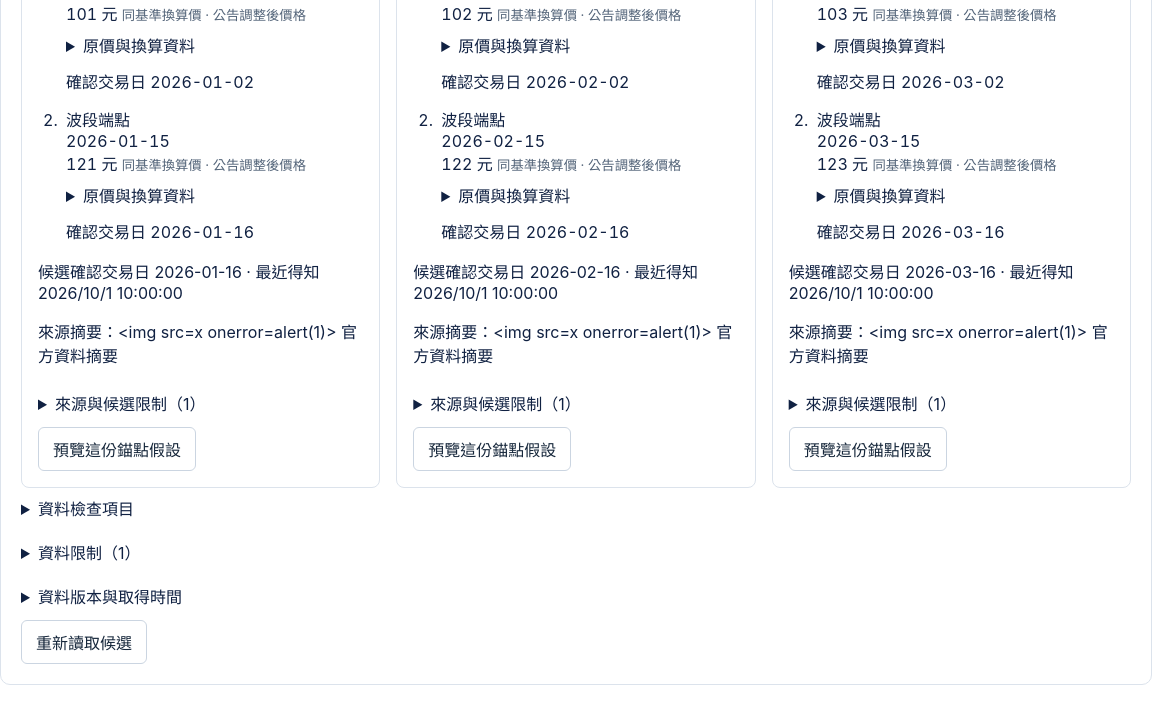
Test: AutomaticWaveCandidates › does not retain a prior successful response after a manual read fails
(page scrolled)
What coordinates should you click on to do the following:
click the button "重新讀取候選"
I would click on:
 (84, 642)
Its box is 21,620 -> 147,664.
(page scrolled)
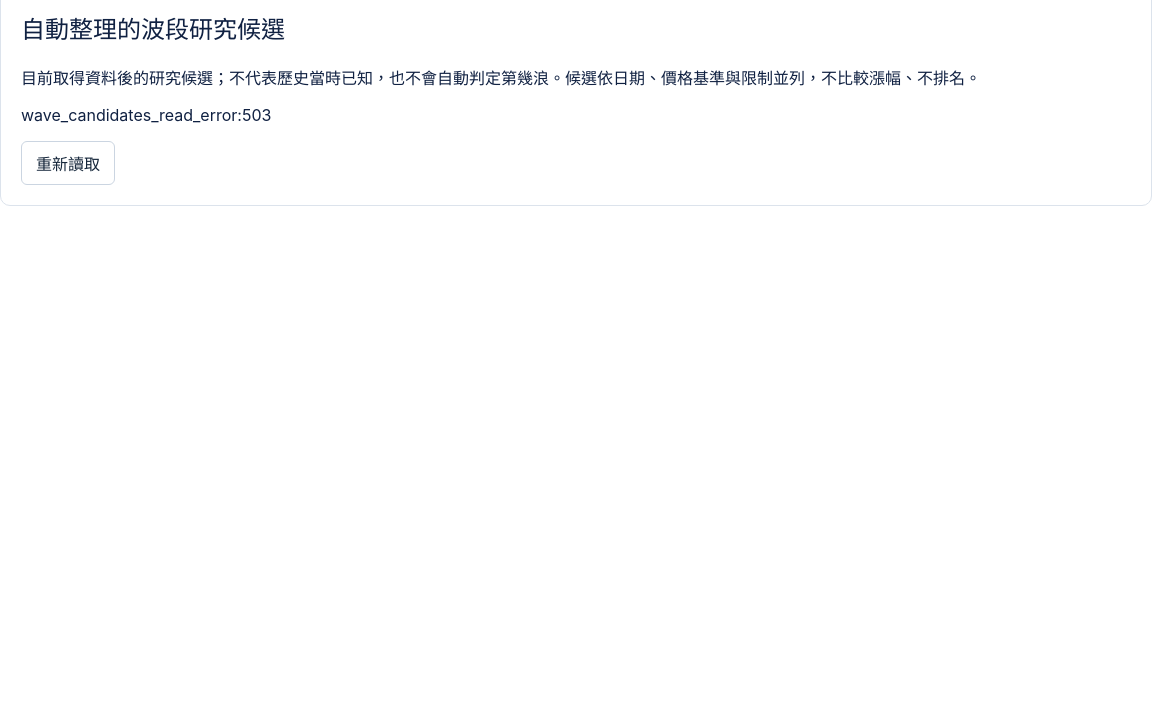
Expected: the message "wave_candidates_read_error:503" is shown, 21,105 -> 271,125
